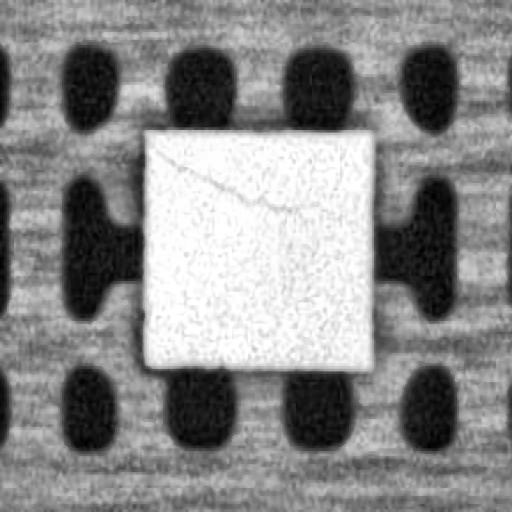DIE_CRACK: (150, 140, 304, 215)
